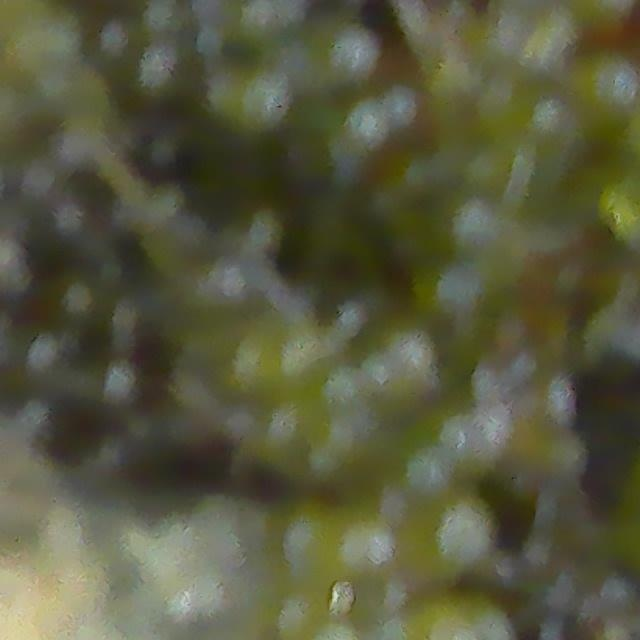SeaGrape: (570, 50, 640, 122)
